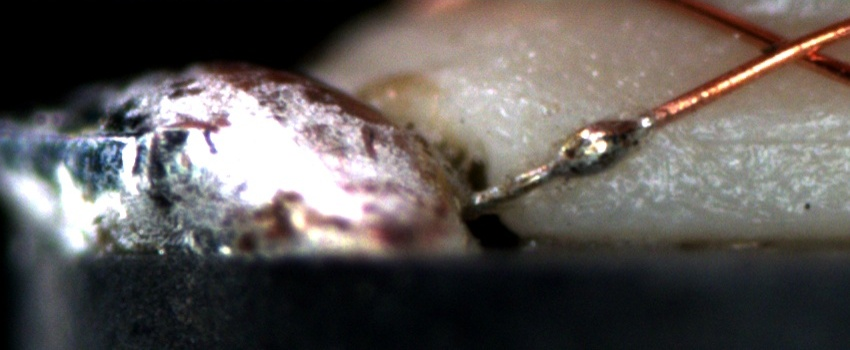CL: (740, 18, 841, 75)
DL: (676, 105, 850, 169)
TB: (549, 108, 653, 183)
TS: (471, 115, 654, 213)
TTCW: (466, 88, 698, 209)
